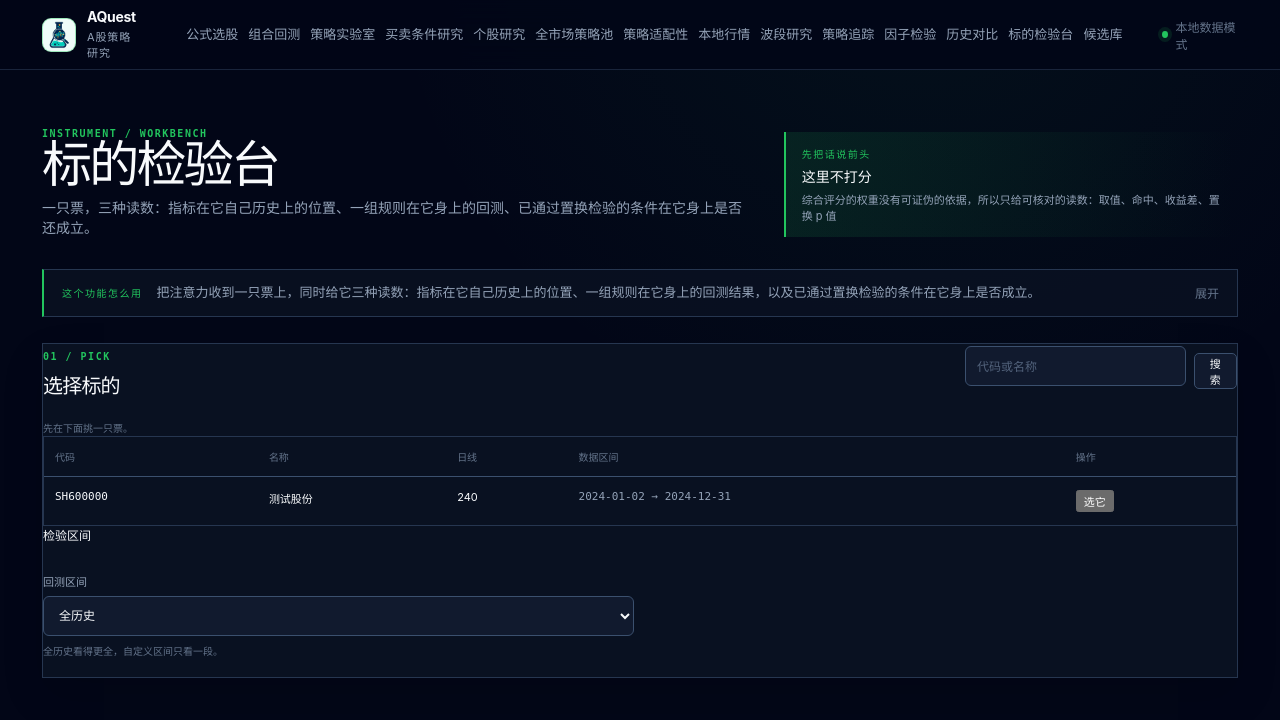
Test: InstrumentLabPage › starts from the instrument list and reveals the sections once picked
The width and height of the screenshot is (1280, 720).
Click the button with test id "lab-pick-600000".
click(1095, 500)  # box [1076,490,1114,512]
(page scrolled)
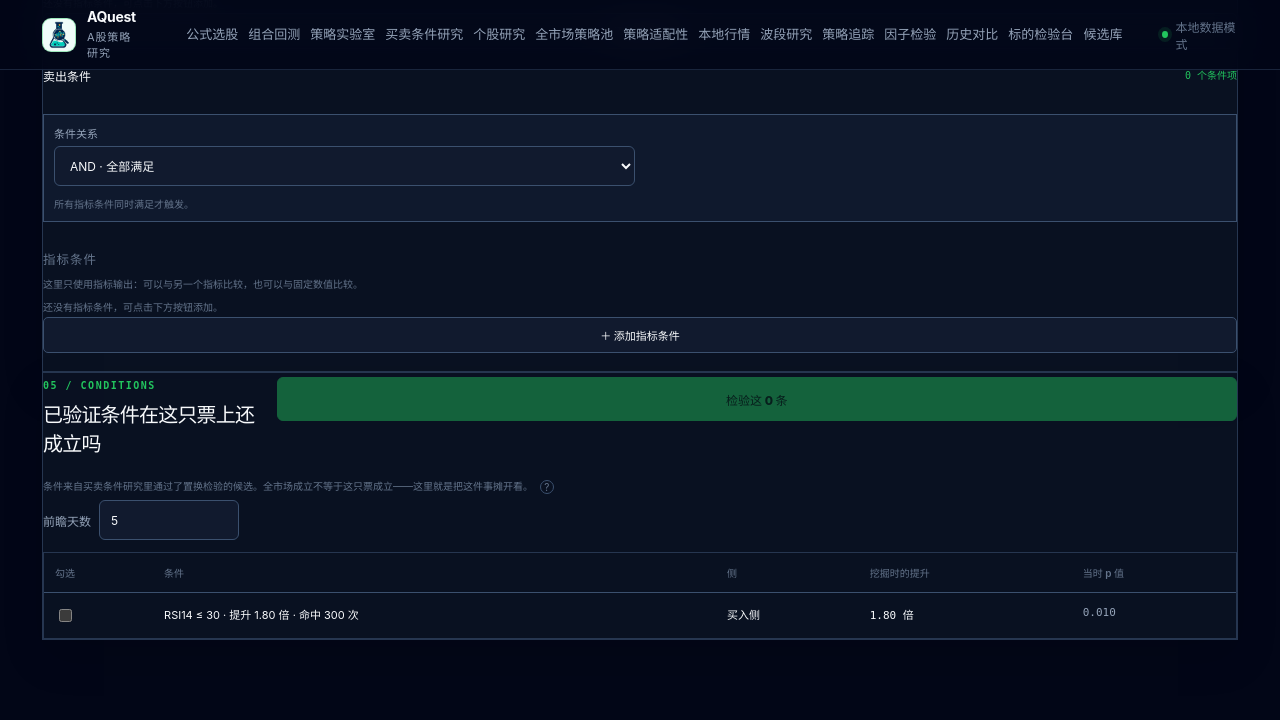
Now the element with test id "lab-conditions" is shown, box [42,372,1238,640]
